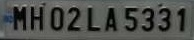character: (12, 4, 26, 32), (66, 6, 81, 31), (86, 6, 101, 31), (156, 6, 170, 31), (30, 5, 43, 30), (124, 6, 137, 31), (50, 6, 63, 30), (104, 6, 116, 31), (141, 6, 153, 31), (176, 6, 185, 32)
